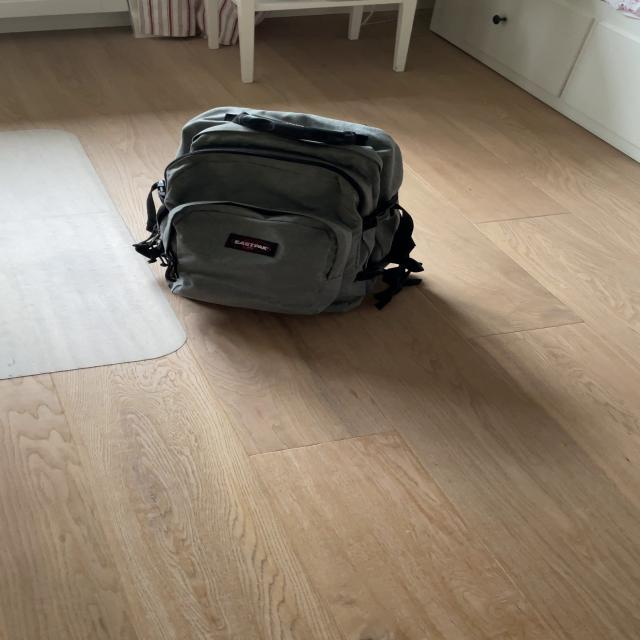backpack: (129, 96, 425, 321)
